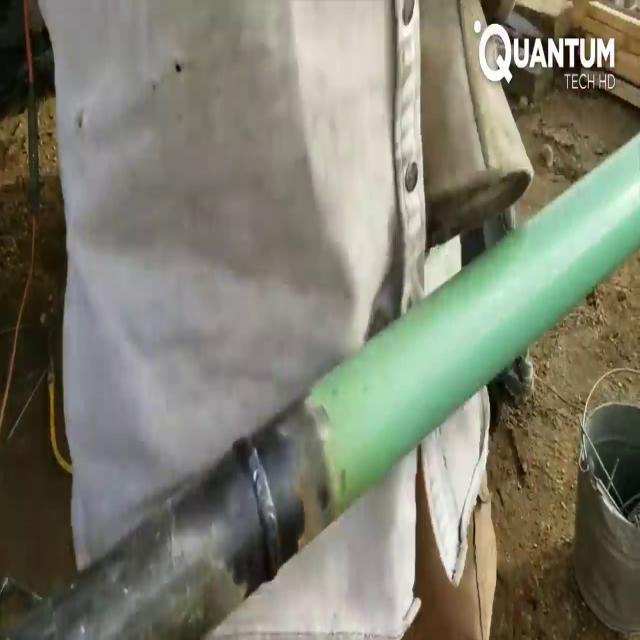Good Welding: (245, 446, 279, 550)
